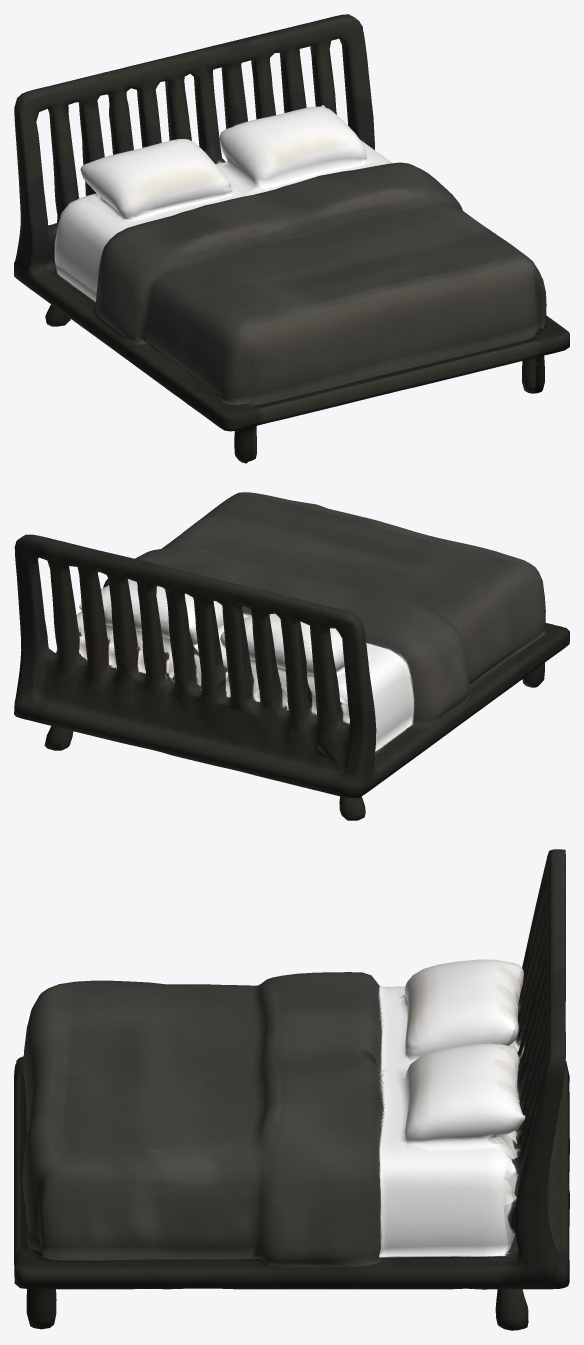
The model's file is Midnight_Slumber.glb.
3 views of the same model, one above another, from view 1: azimuth 30°, elevation 25°; view 2: azimuth 150°, elevation 25°; view 3: azimuth 270°, elevation 25° (orthographic). The views are drawn at different scales.
Size of the model in its own units: 1.75 by 1.07 by 1.89.
Materials: 1 (1 with a texture image).
